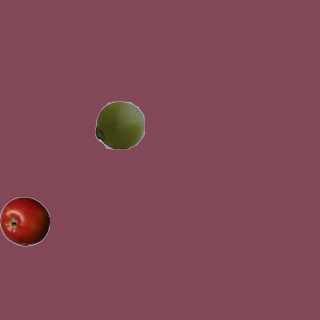Apple Braeburn: (0, 196, 49, 246)
Grape White 4: (94, 99, 144, 149)
